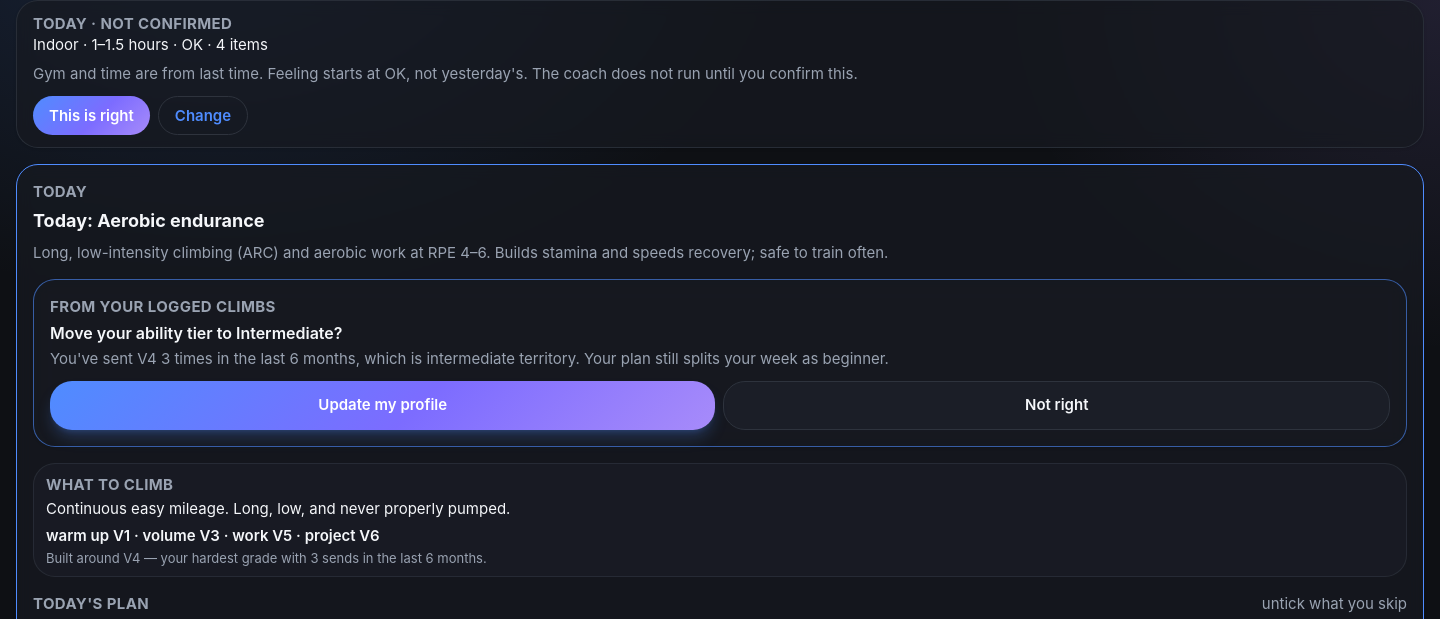
Test case: TrainHome — profile drift › applies the change on accept and stops asking
(page scrolled)
Expected: the text "Today's plan" is shown, [33, 594, 149, 615]
Step 1. Click the button "Update my profile" → (383, 405), box [50, 381, 716, 430]
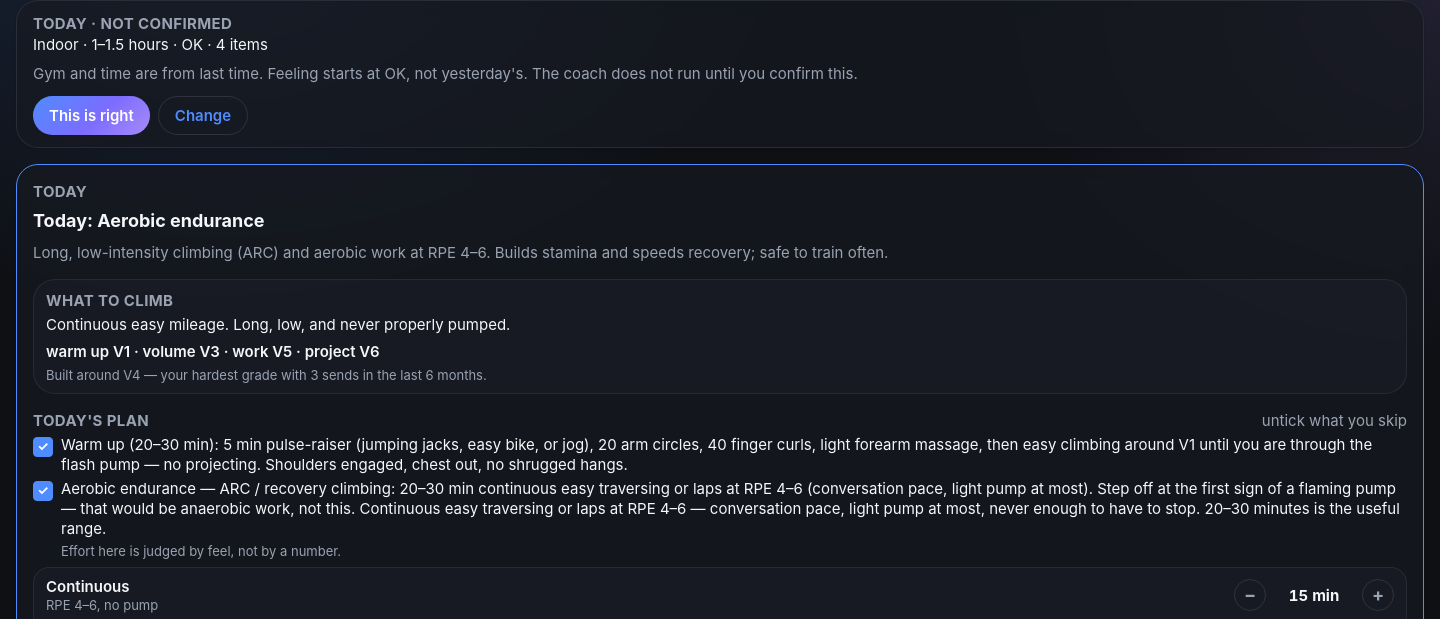
Result: the text "Move your ability tier" is gone
